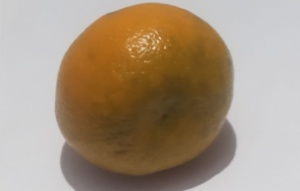BAD: (47, 2, 237, 179)
